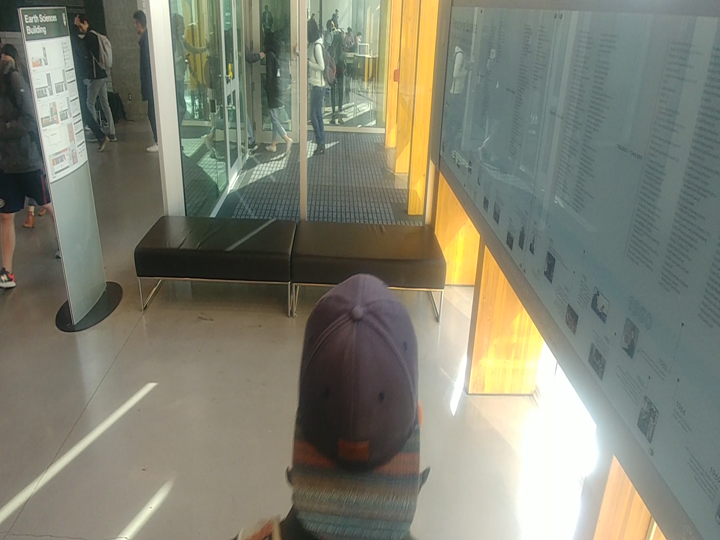face: (72, 9, 96, 39), (256, 27, 280, 56), (127, 3, 147, 34), (305, 14, 326, 43)
human: (69, 9, 120, 142), (258, 26, 299, 155), (306, 12, 341, 163), (128, 7, 161, 157)
